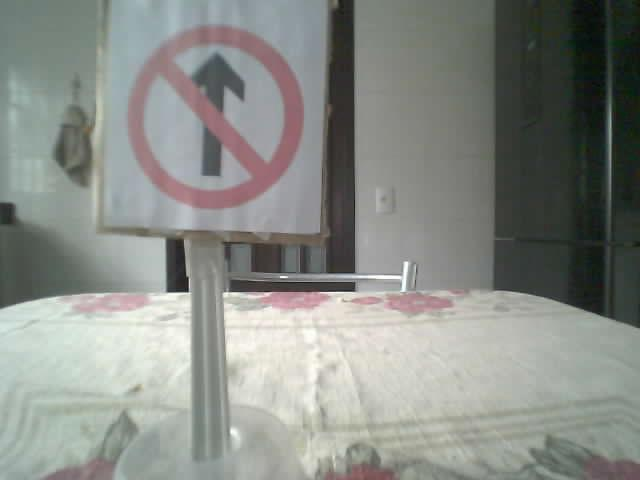R-3_sentido-proibido: (125, 23, 302, 207)
